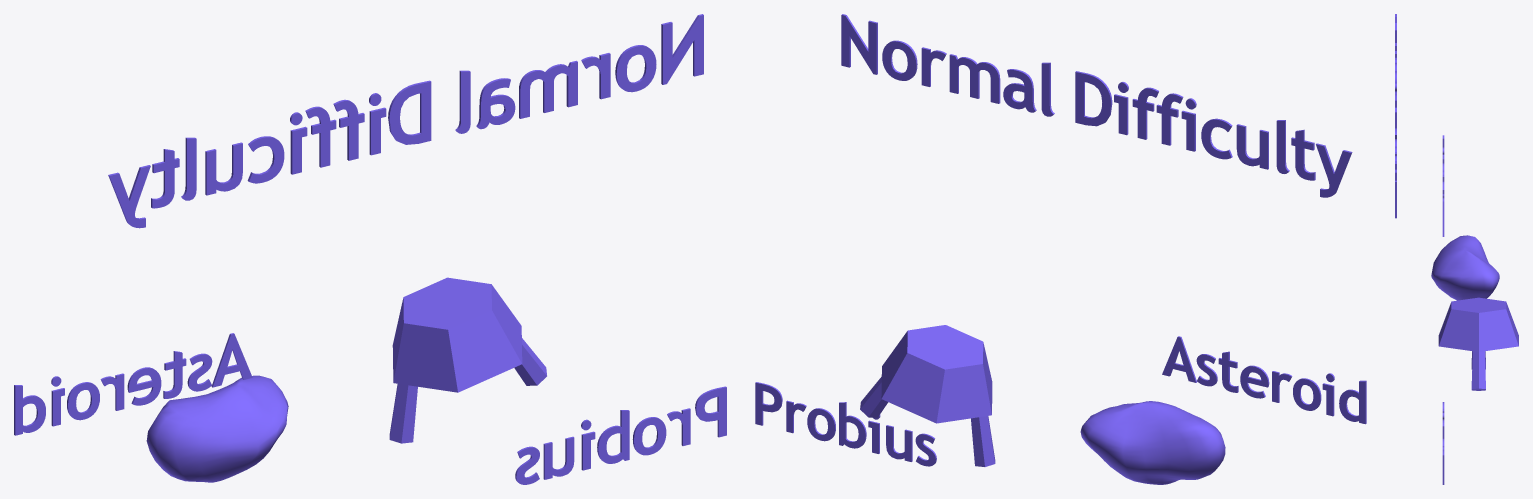
Rendered from AST_title_normalMode.fbx.
3 views of the same model, side by side, from view 1: azimuth 30°, elevation 25°; view 2: azimuth 150°, elevation 25°; view 3: azimuth 270°, elevation 25° (orthographic). The views are drawn at different scales.
Visible parts, largest first — view 1: MSH_title_normalMode; view 2: MSH_title_normalMode; view 3: MSH_title_normalMode.
Part boxes in pixels (box(x1,y1,x2,y2)): MSH_title_normalMode: box(14, 14, 726, 484); MSH_title_normalMode: box(755, 14, 1366, 484); MSH_title_normalMode: box(1395, 14, 1518, 484).
Bounding box in the file's own units: 283 × 178 × 69.59.
